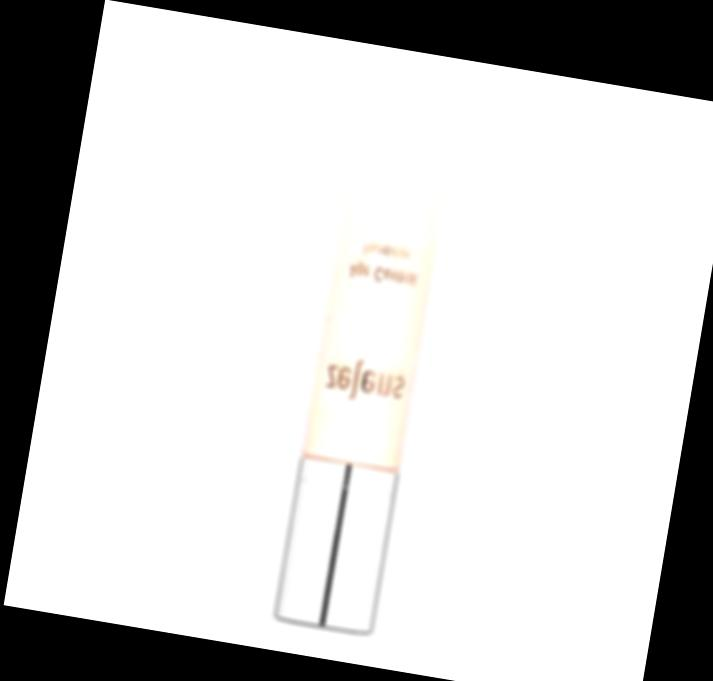cosmetic: (271, 64, 468, 639)
